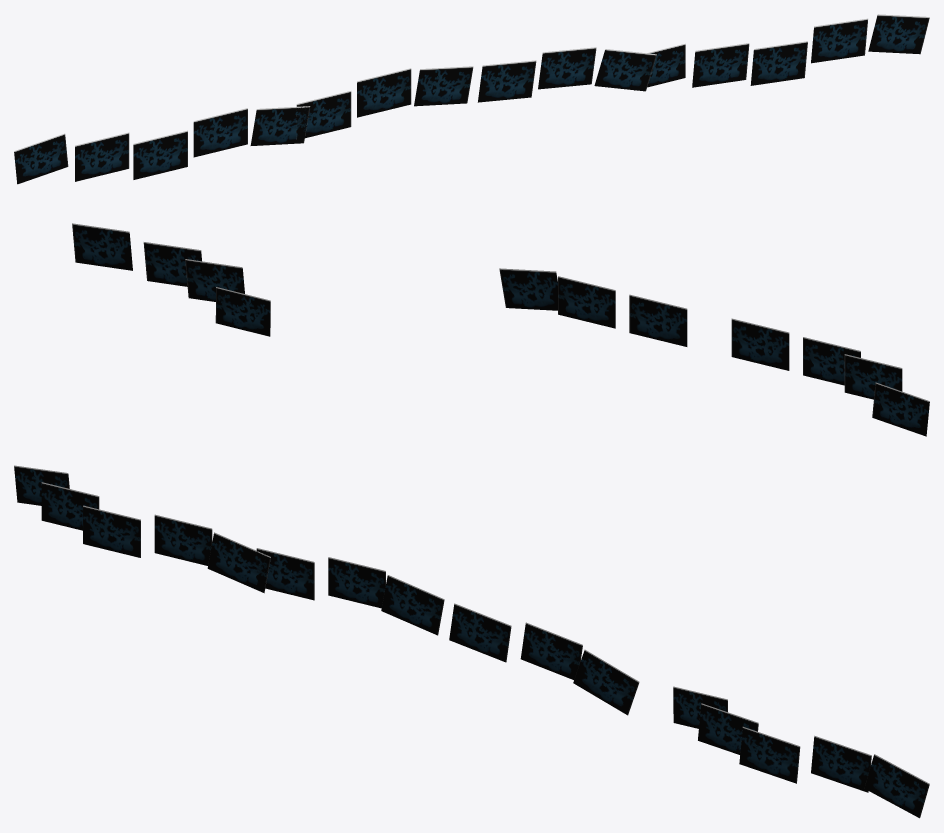
Rendered from Dark Forest Scary Tree Groups.FBX.
3 renders of one model, top to bottom at view 1: azimuth 30°, elevation 25°; view 2: azimuth 150°, elevation 25°; view 3: azimuth 330°, elevation 25°, orthographic. The views are drawn at different scales.
Visible parts, largest first — view 1: Scary Tree Group Part 2, Scary Tree Group Part 3, Scary Tree Group Part 1; view 2: Scary Tree Group Part 2, Scary Tree Group Part 3, Scary Tree Group Part 1; view 3: Scary Tree Group Part 2, Scary Tree Group Part 3, Scary Tree Group Part 1.
Boxes of the visible parts, x1=… form: Scary Tree Group Part 2: x1=193, y1=47, x2=656, y2=157; Scary Tree Group Part 3: x1=634, y1=14, x2=929, y2=90; Scary Tree Group Part 1: x1=14, y1=130, x2=187, y2=184; Scary Tree Group Part 2: x1=499, y1=268, x2=789, y2=370; Scary Tree Group Part 3: x1=72, y1=223, x2=270, y2=336; Scary Tree Group Part 1: x1=803, y1=337, x2=929, y2=436; Scary Tree Group Part 2: x1=154, y1=514, x2=639, y2=715; Scary Tree Group Part 3: x1=673, y1=686, x2=929, y2=818; Scary Tree Group Part 1: x1=14, y1=465, x2=140, y2=557.
Size of the model in its own units: 11880 by 631 by 1370.
